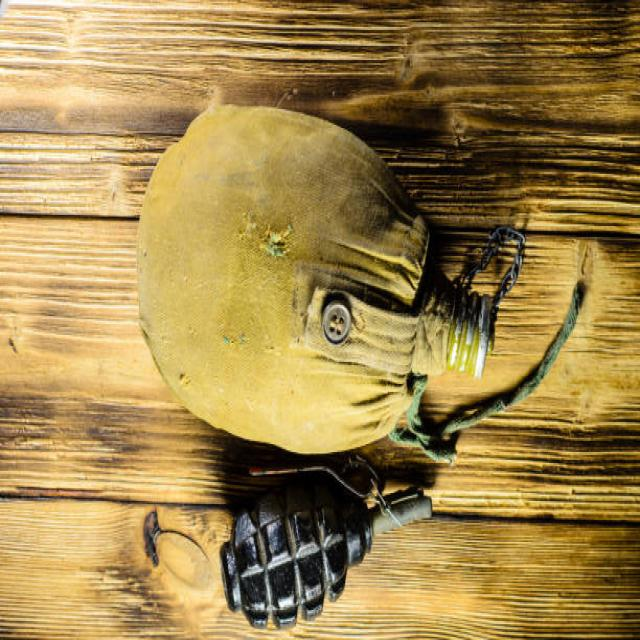grenade: (215, 453, 437, 637)
